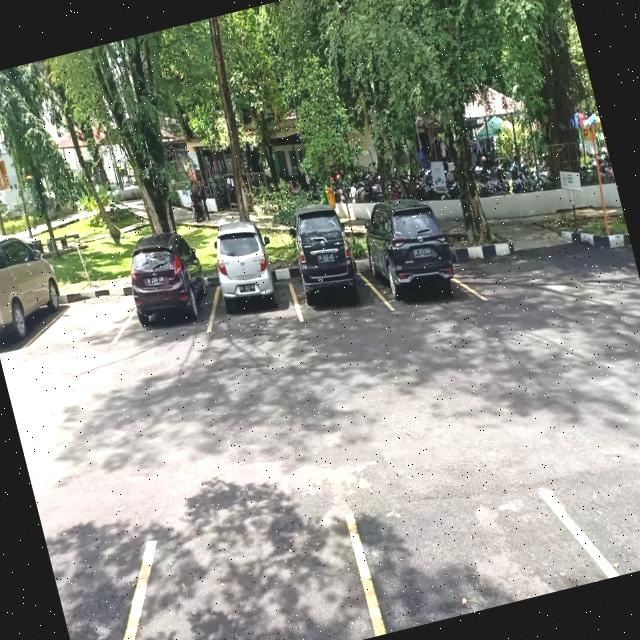empty: (30, 270, 140, 360)
occupied: (357, 204, 467, 318), (201, 236, 302, 340), (116, 251, 220, 351), (280, 229, 376, 326), (0, 260, 71, 356)
